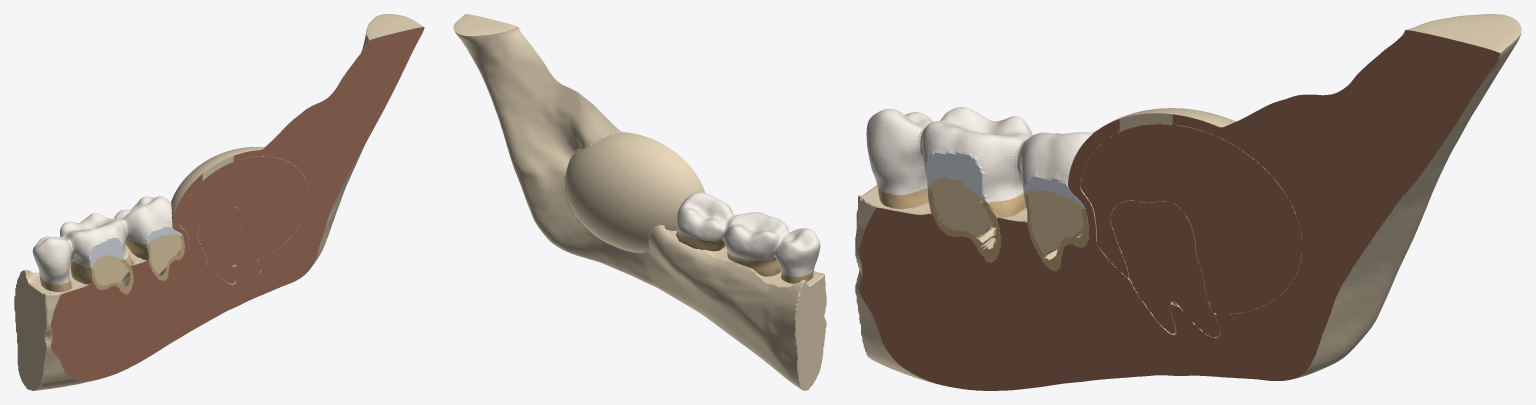
Rendered from marsup-after.glb.
The picture shows the model from 3 angles, left to right: view 1: azimuth 30°, elevation 25°; view 2: azimuth 150°, elevation 25°; view 3: azimuth 330°, elevation 25°; orthographic projection. The views are drawn at different scales.
Visible parts, largest first — view 1: bone cut, new bone cut, bone, teeth, teeth cut 4, teeth roots, teeth cut 2, teeth cut 3, new bone; view 2: bone, teeth, teeth roots, new bone; view 3: bone cut, new bone cut, bone, teeth, teeth cut 4, teeth cut 2, teeth cut 3, teeth roots, new bone.
Boxes of the visible parts, <box> form: bone cut: <box>50,27,424,380</box>; new bone cut: <box>180,156,308,283</box>; bone: <box>14,14,423,390</box>; teeth: <box>32,196,172,284</box>; teeth cut 4: <box>91,234,182,285</box>; teeth roots: <box>40,239,183,291</box>; teeth cut 2: <box>89,226,182,267</box>; teeth cut 3: <box>90,236,184,294</box>; new bone: <box>180,153,308,273</box>; bone: <box>453,14,826,390</box>; teeth: <box>677,192,820,276</box>; teeth roots: <box>676,231,813,283</box>; new bone: <box>643,137,678,162</box>; bone cut: <box>859,30,1500,390</box>; new bone cut: <box>1080,124,1302,337</box>; bone: <box>855,14,1521,384</box>; teeth: <box>866,107,1096,202</box>; teeth cut 4: <box>928,177,1085,254</box>; teeth cut 2: <box>925,152,1084,208</box>; teeth cut 3: <box>927,188,1089,271</box>; teeth roots: <box>877,188,1085,271</box>; new bone: <box>1081,108,1301,314</box>.
Bounding box in the file's own units: 81.87 × 59.05 × 12.4.
